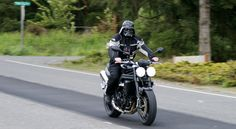helmet: (121, 19, 137, 38)
